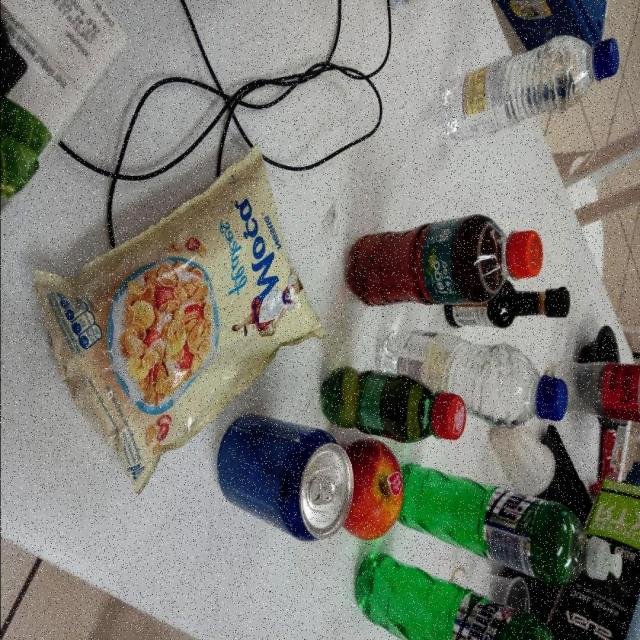Apple: (341, 440, 402, 541)
Cleaner: (397, 462, 622, 586), (352, 553, 554, 640)
CornFlakes: (31, 148, 322, 494)
EnglishSauce: (444, 282, 569, 327)
Guarana: (316, 367, 468, 444)
IceTea: (345, 214, 543, 307)
TomatoSauce: (599, 421, 626, 481)
Tonic: (214, 413, 354, 542)
Water: (436, 36, 616, 144), (378, 329, 567, 428)
